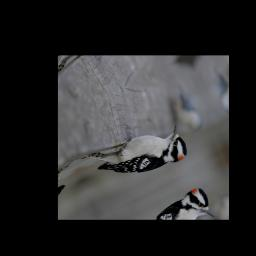Woodpecker: (80, 109, 196, 207)
